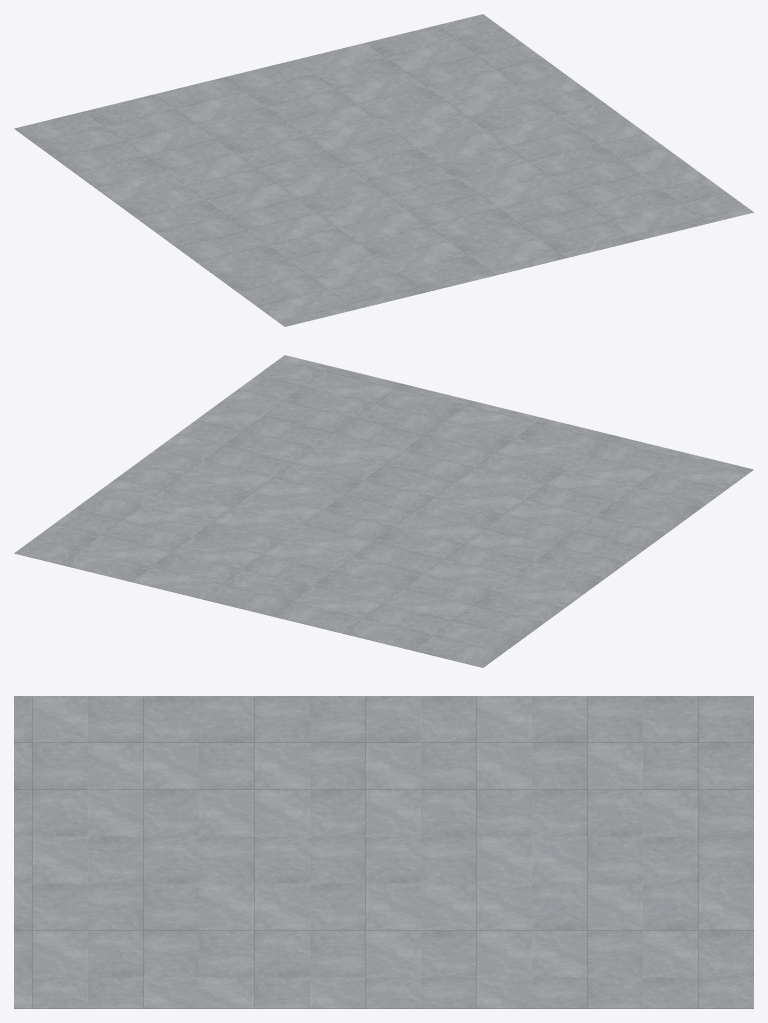
The model's file is theia-60x120.glb.
The picture shows the model from 3 angles, top to bottom: view 1: azimuth 30°, elevation 25°; view 2: azimuth 150°, elevation 25°; view 3: azimuth 270°, elevation 25°; orthographic projection. The views are drawn at different scales.
Visible parts, largest first — view 1: Theia; view 2: Theia; view 3: Theia.
Boxes of the visible parts, <box> form: Theia: <box>14,14,753,326</box>; Theia: <box>14,355,753,667</box>; Theia: <box>14,696,753,1008</box>.
Bounding box in the file's own units: 8 × 0.003 × 8.
2 materials, 1 textured.
